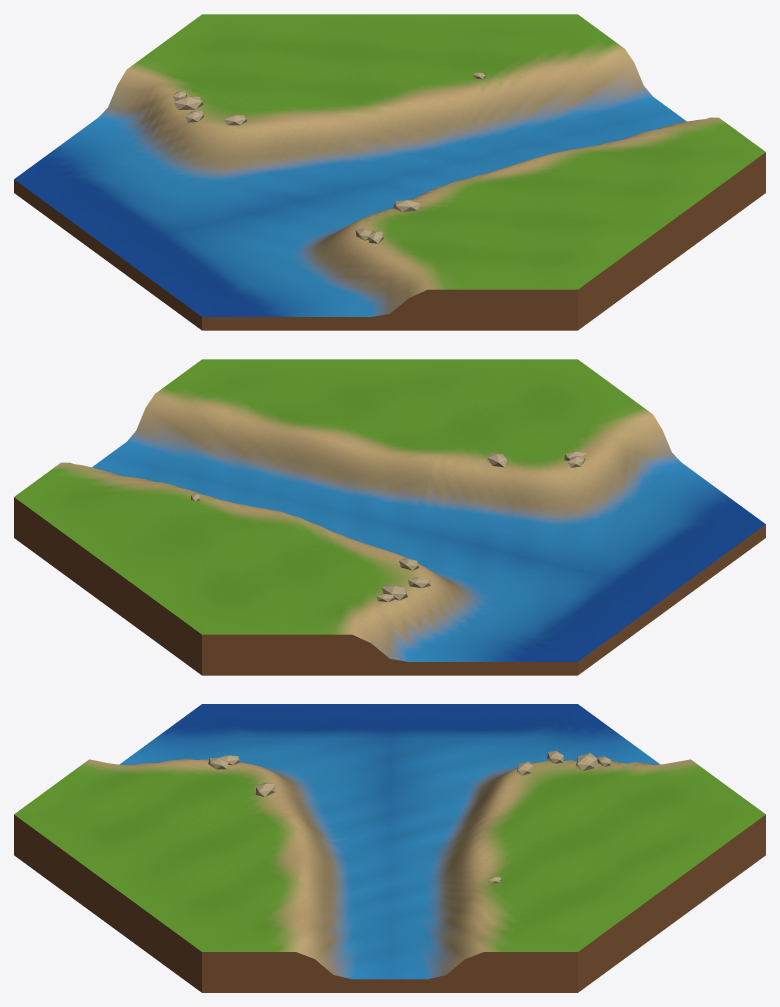
File: SM_Agua_Desembocadura_LOD0.fbx
The picture shows the model from 3 angles, top to bottom: view 1: azimuth 30°, elevation 25°; view 2: azimuth 150°, elevation 25°; view 3: azimuth 270°, elevation 25°; orthographic projection.
Parts seen in each view (by area): view 1: SM_Agua_Desembocadura_LOD0; view 2: SM_Agua_Desembocadura_LOD0; view 3: SM_Agua_Desembocadura_LOD0.
Boxes of the visible parts, bbox=[...] form: SM_Agua_Desembocadura_LOD0: bbox=[14, 14, 765, 330]; SM_Agua_Desembocadura_LOD0: bbox=[14, 359, 765, 675]; SM_Agua_Desembocadura_LOD0: bbox=[14, 704, 765, 992].
Size of the model in its own units: 1.73 by 0.1445 by 2.
Materials: 1 (1 with a texture image).
